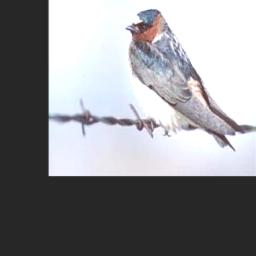Swallow: (127, 7, 245, 155)
